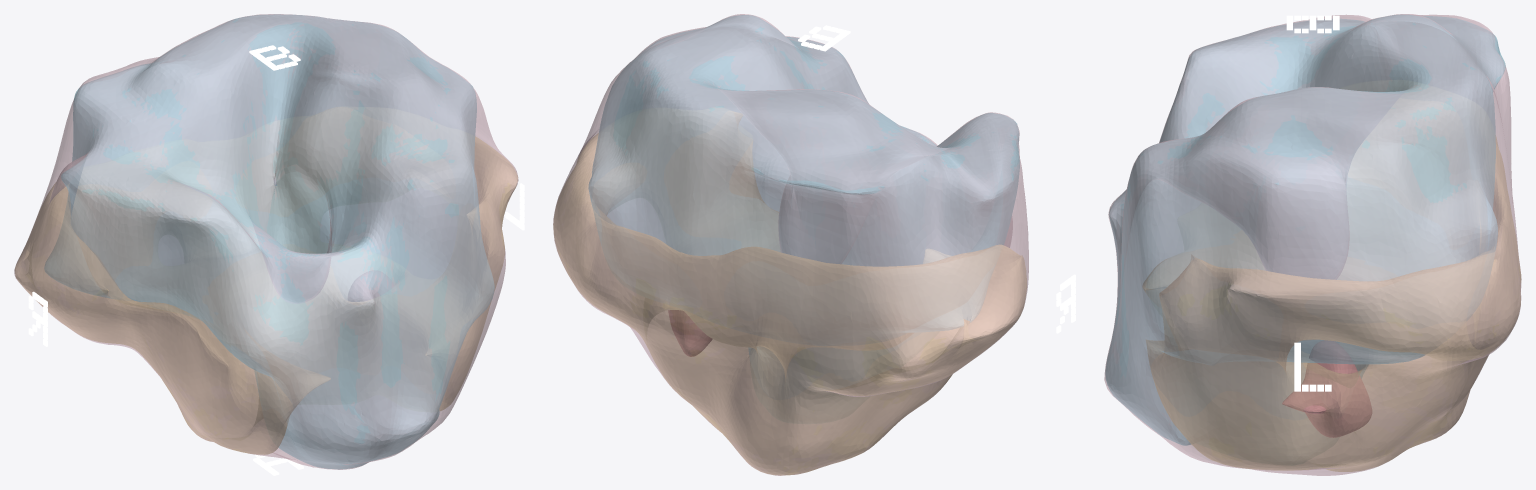
The picture shows the model from 3 angles, left to right: view 1: azimuth 30°, elevation 25°; view 2: azimuth 150°, elevation 25°; view 3: azimuth 270°, elevation 25°; orthographic projection. The views are drawn at different scales.
Visible parts, largest first — view 1: prostate_gland, transition_zone, peripheral_zone, lesion_01, pv_ar_marker_B, pv_ar_marker_R; view 2: prostate_gland, transition_zone, peripheral_zone, lesion_01, pv_ar_marker_B, pv_ar_marker_R; view 3: prostate_gland, transition_zone, peripheral_zone, lesion_01, pv_ar_marker_B, pv_ar_marker_L.
Part boxes in pixels (<box>): prostate_gland: <box>14,14,518,469</box>; transition_zone: <box>44,14,494,469</box>; peripheral_zone: <box>15,136,517,454</box>; lesion_01: <box>348,271,393,301</box>; pv_ar_marker_B: <box>249,45,300,70</box>; pv_ar_marker_R: <box>28,291,47,346</box>; prostate_gland: <box>553,14,1028,475</box>; transition_zone: <box>588,15,1019,354</box>; peripheral_zone: <box>553,111,1026,475</box>; lesion_01: <box>668,310,711,356</box>; pv_ar_marker_B: <box>798,25,850,51</box>; pv_ar_marker_R: <box>1056,274,1075,333</box>; prostate_gland: <box>1104,14,1521,475</box>; transition_zone: <box>1105,15,1505,445</box>; peripheral_zone: <box>1142,135,1521,471</box>; lesion_01: <box>1282,341,1371,437</box>; pv_ar_marker_B: <box>1286,15,1339,33</box>; pv_ar_marker_L: <box>1294,342,1331,391</box>.
Size of the model in its own units: 0.0539 by 0.0438 by 0.0378.
